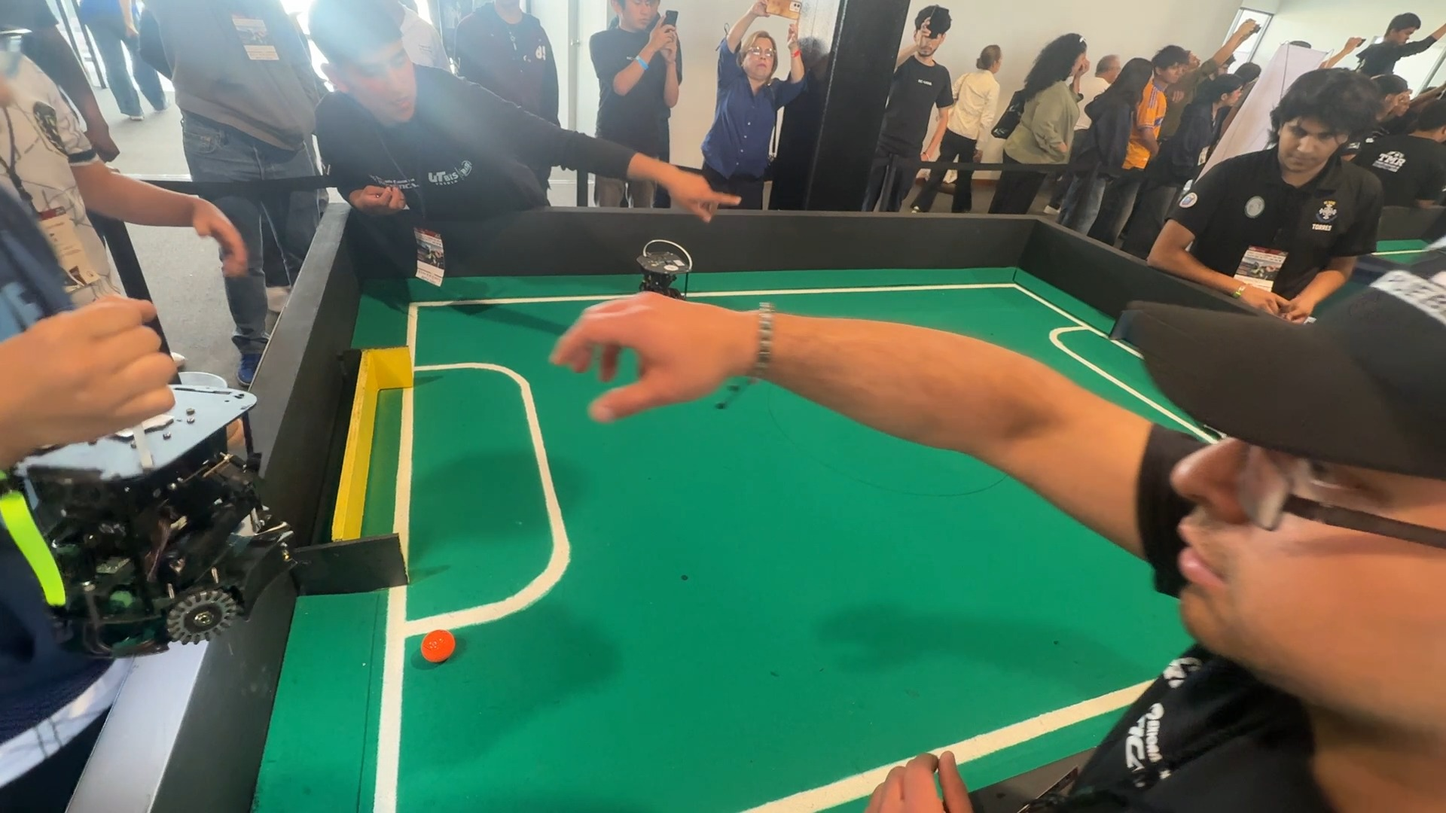Robot: (28, 344, 281, 634), (601, 239, 715, 323)
pelota: (415, 627, 463, 669)
